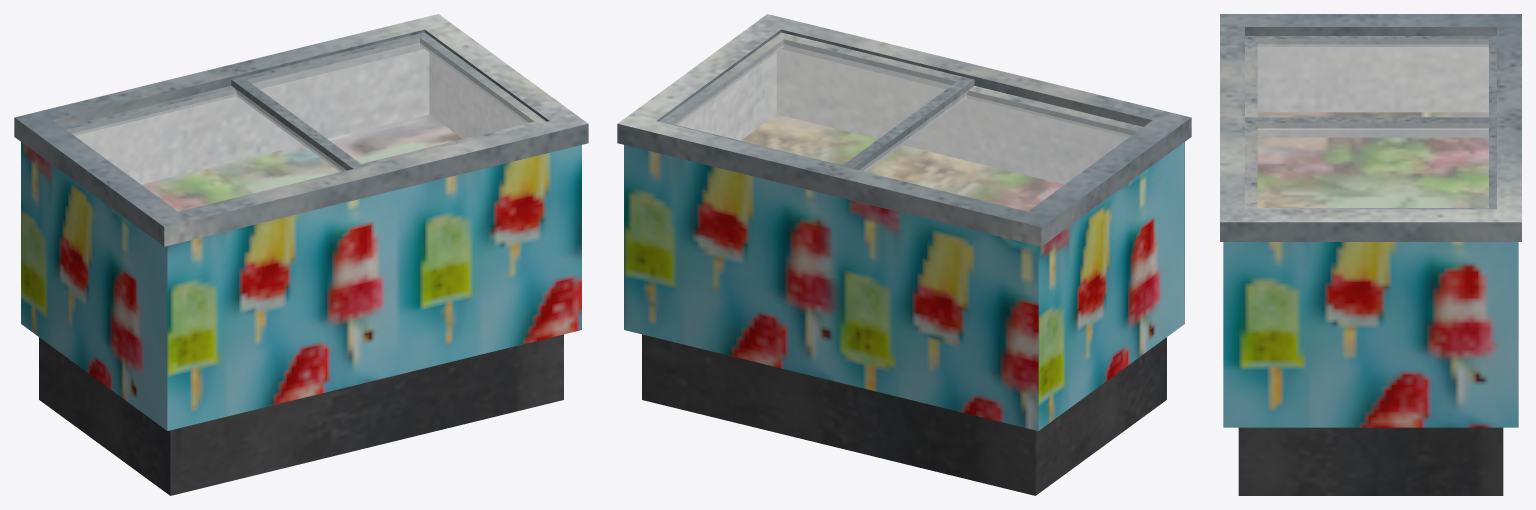
File: icecream.glb
3 renders of one model, left to right at view 1: azimuth 30°, elevation 25°; view 2: azimuth 150°, elevation 25°; view 3: azimuth 270°, elevation 25°, orthographic.
Visible parts, largest first — view 1: Fridge_Fridge_0.001; view 2: Fridge_Fridge_0.001; view 3: Fridge_Fridge_0.001.
Part boxes in pixels (box(x1,y1,x2,y2)): Fridge_Fridge_0.001: box(14, 14, 588, 495); Fridge_Fridge_0.001: box(617, 14, 1191, 495); Fridge_Fridge_0.001: box(1220, 14, 1521, 495).
Size of the model in its own units: 1.69 by 1.06 by 1.03.
Materials: 2 (1 with a texture image).
